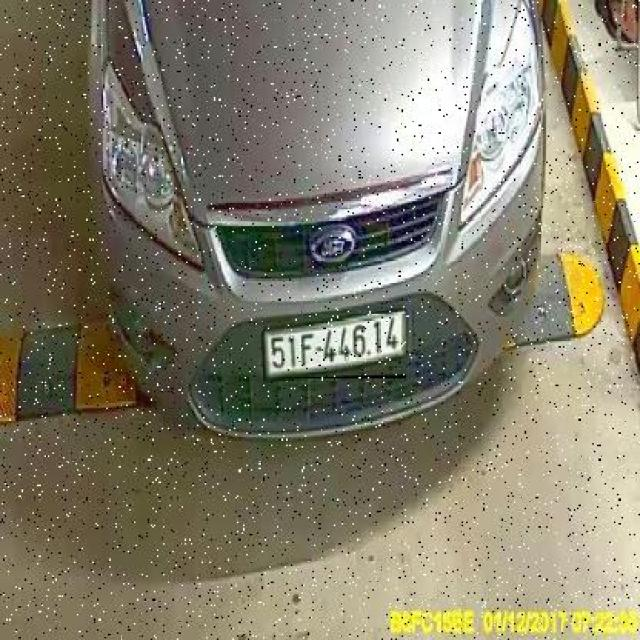number_plate: (263, 314, 406, 378)
